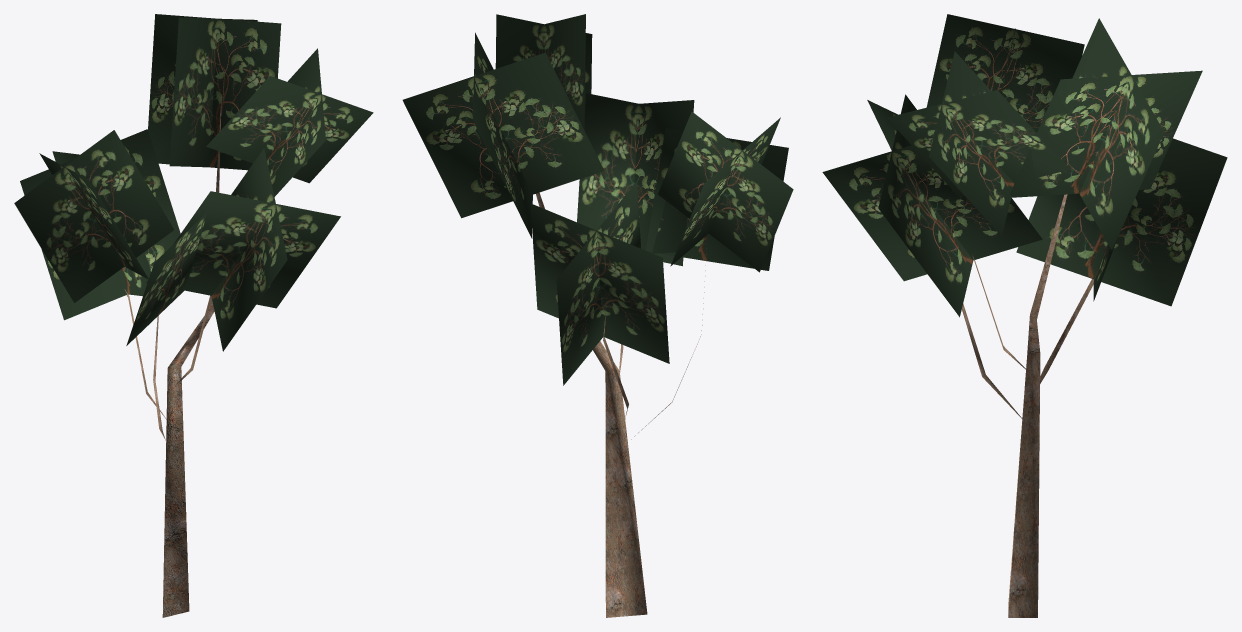
Rendered from decd_ginkgotreeleaves_a2_l2.fbx.
3 views of the same model, side by side, from view 1: azimuth 30°, elevation 25°; view 2: azimuth 150°, elevation 25°; view 3: azimuth 270°, elevation 25° (orthographic). The views are drawn at different scales.
Parts seen in each view (by area): view 1: mesh_node; view 2: mesh_node; view 3: mesh_node.
Part boxes in pixels (box(x1,y1,x2,y2)): mesh_node: box(14, 14, 373, 617); mesh_node: box(402, 14, 793, 617); mesh_node: box(822, 14, 1227, 617).
Size of the model in its own units: 1.87 by 3.1 by 1.85.
2 materials, 2 textured.
